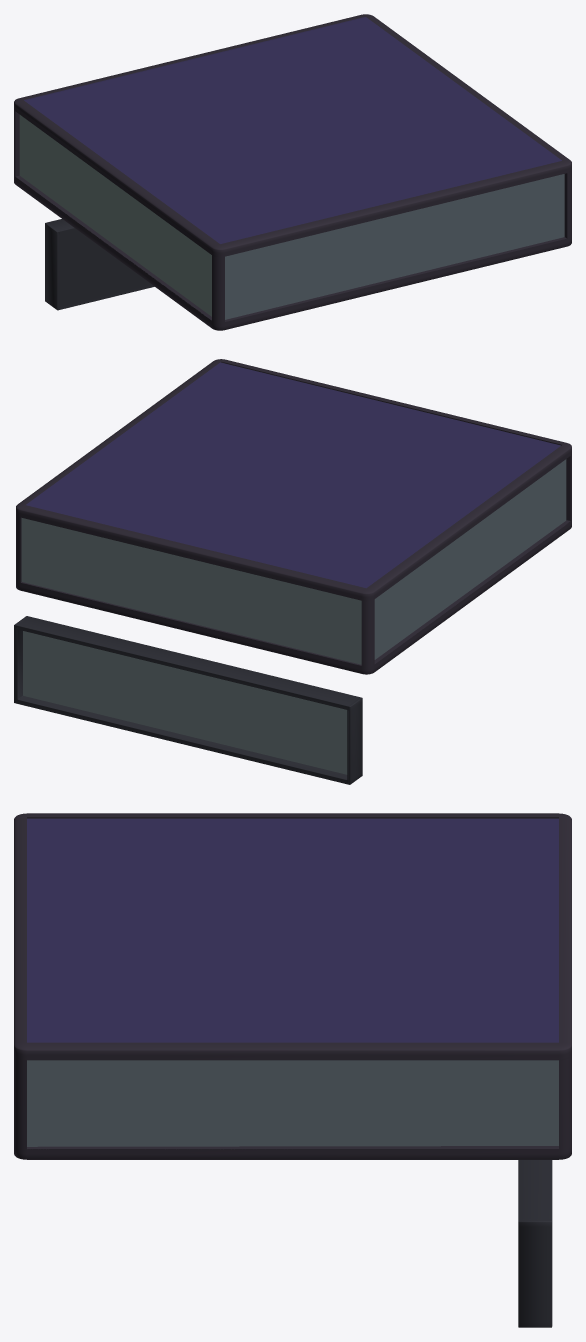
Rendered from Screens.glb.
3 views of the same model, one above another, from view 1: azimuth 30°, elevation 25°; view 2: azimuth 150°, elevation 25°; view 3: azimuth 270°, elevation 25° (orthographic). The views are drawn at different scales.
Visible parts, largest first — view 1: RoofExtension2, RoofExtension2.01, StockScreen; view 2: RoofExtension2, StockScreen.002, RoofExtension2.01, StockScreen; view 3: RoofExtension2, RoofExtension2.01, StockScreen.
Boxes of the visible parts, <box> form: RoofExtension2: <box>19,17,564,319</box>; RoofExtension2.01: <box>14,14,571,330</box>; StockScreen: <box>45,219,154,310</box>; RoofExtension2: <box>21,362,566,664</box>; StockScreen.002: <box>23,631,347,774</box>; RoofExtension2.01: <box>16,359,571,674</box>; StockScreen: <box>14,616,362,784</box>; RoofExtension2: <box>27,818,558,1146</box>; RoofExtension2.01: <box>14,813,571,1159</box>; StockScreen: <box>518,1160,552,1327</box>.
Bounding box in the file's own units: 9.37 × 5.01 × 9.18.
